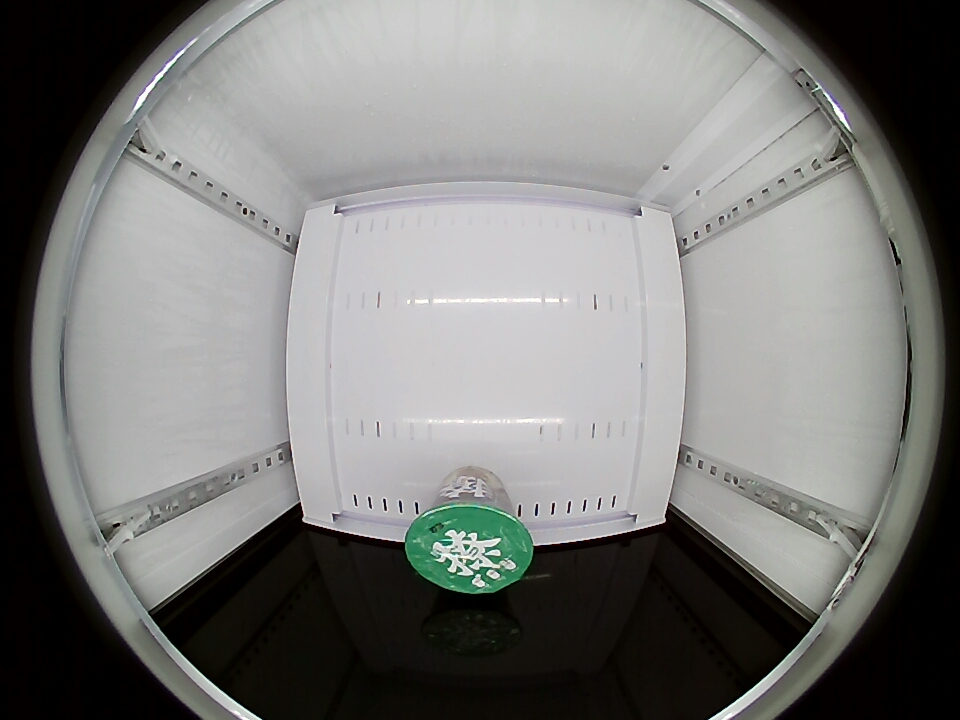liaomian: (405, 491, 533, 593)
